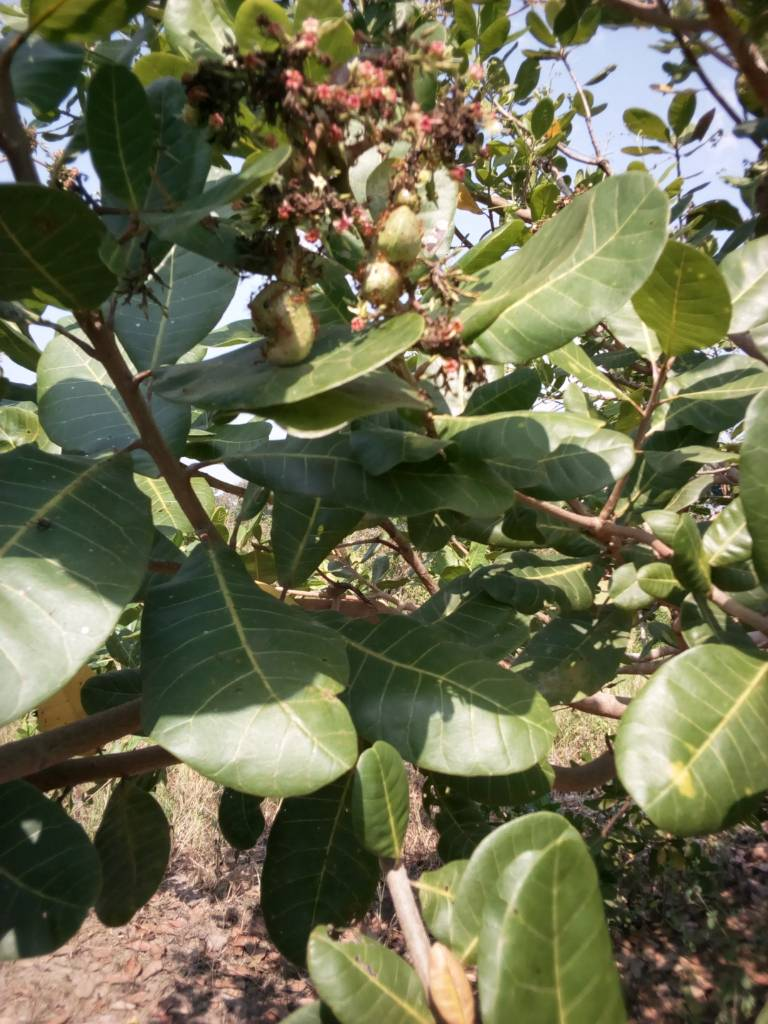Alternariose: (622, 649, 763, 825), (643, 247, 730, 355)
